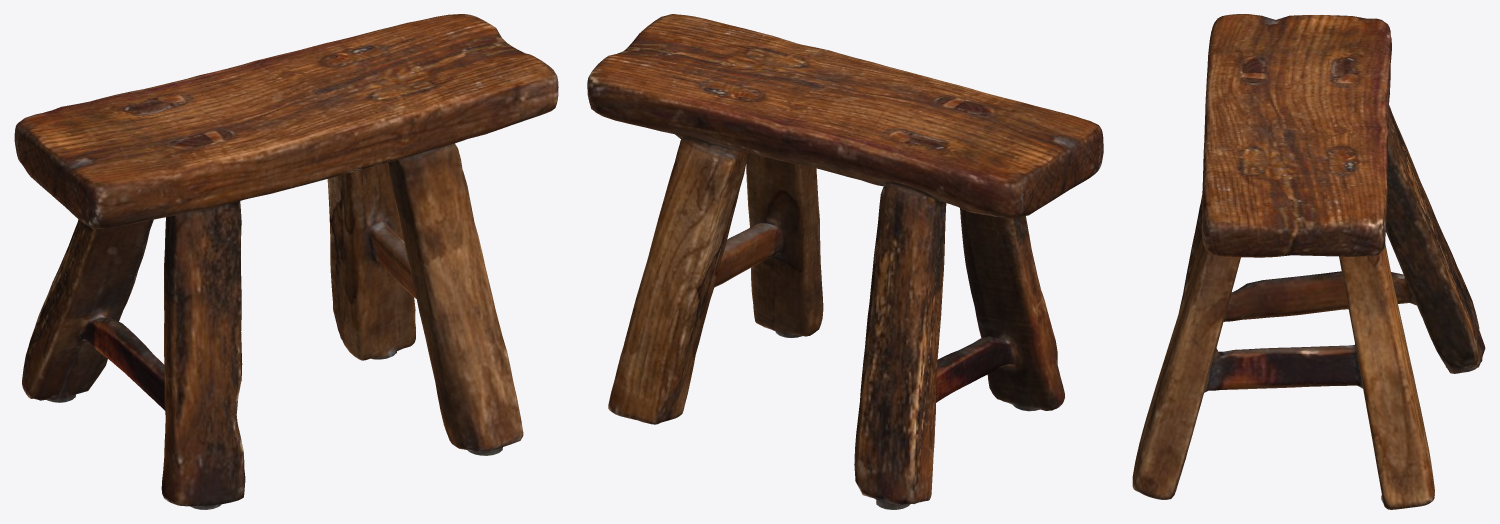
Rendered from wooden_stool_02.gltf.
3 renders of one model, left to right at view 1: azimuth 30°, elevation 25°; view 2: azimuth 150°, elevation 25°; view 3: azimuth 270°, elevation 25°, orthographic. The views are drawn at different scales.
Parts seen in each view (by area): view 1: wooden_stool_02; view 2: wooden_stool_02; view 3: wooden_stool_02.
Part boxes in pixels (left/top/right/bottom): wooden_stool_02: left=14, top=14, right=558, bottom=509; wooden_stool_02: left=587, top=14, right=1103, bottom=509; wooden_stool_02: left=1132, top=14, right=1485, bottom=509.
Size of the model in its own units: 0.2652 by 0.1819 by 0.1831.
1 material, 1 textured.
